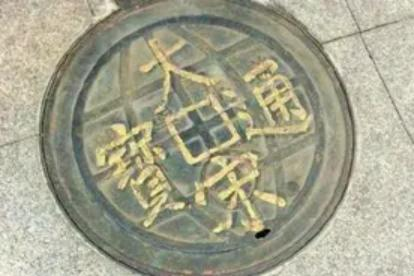wellcover: (43, 0, 356, 276)
